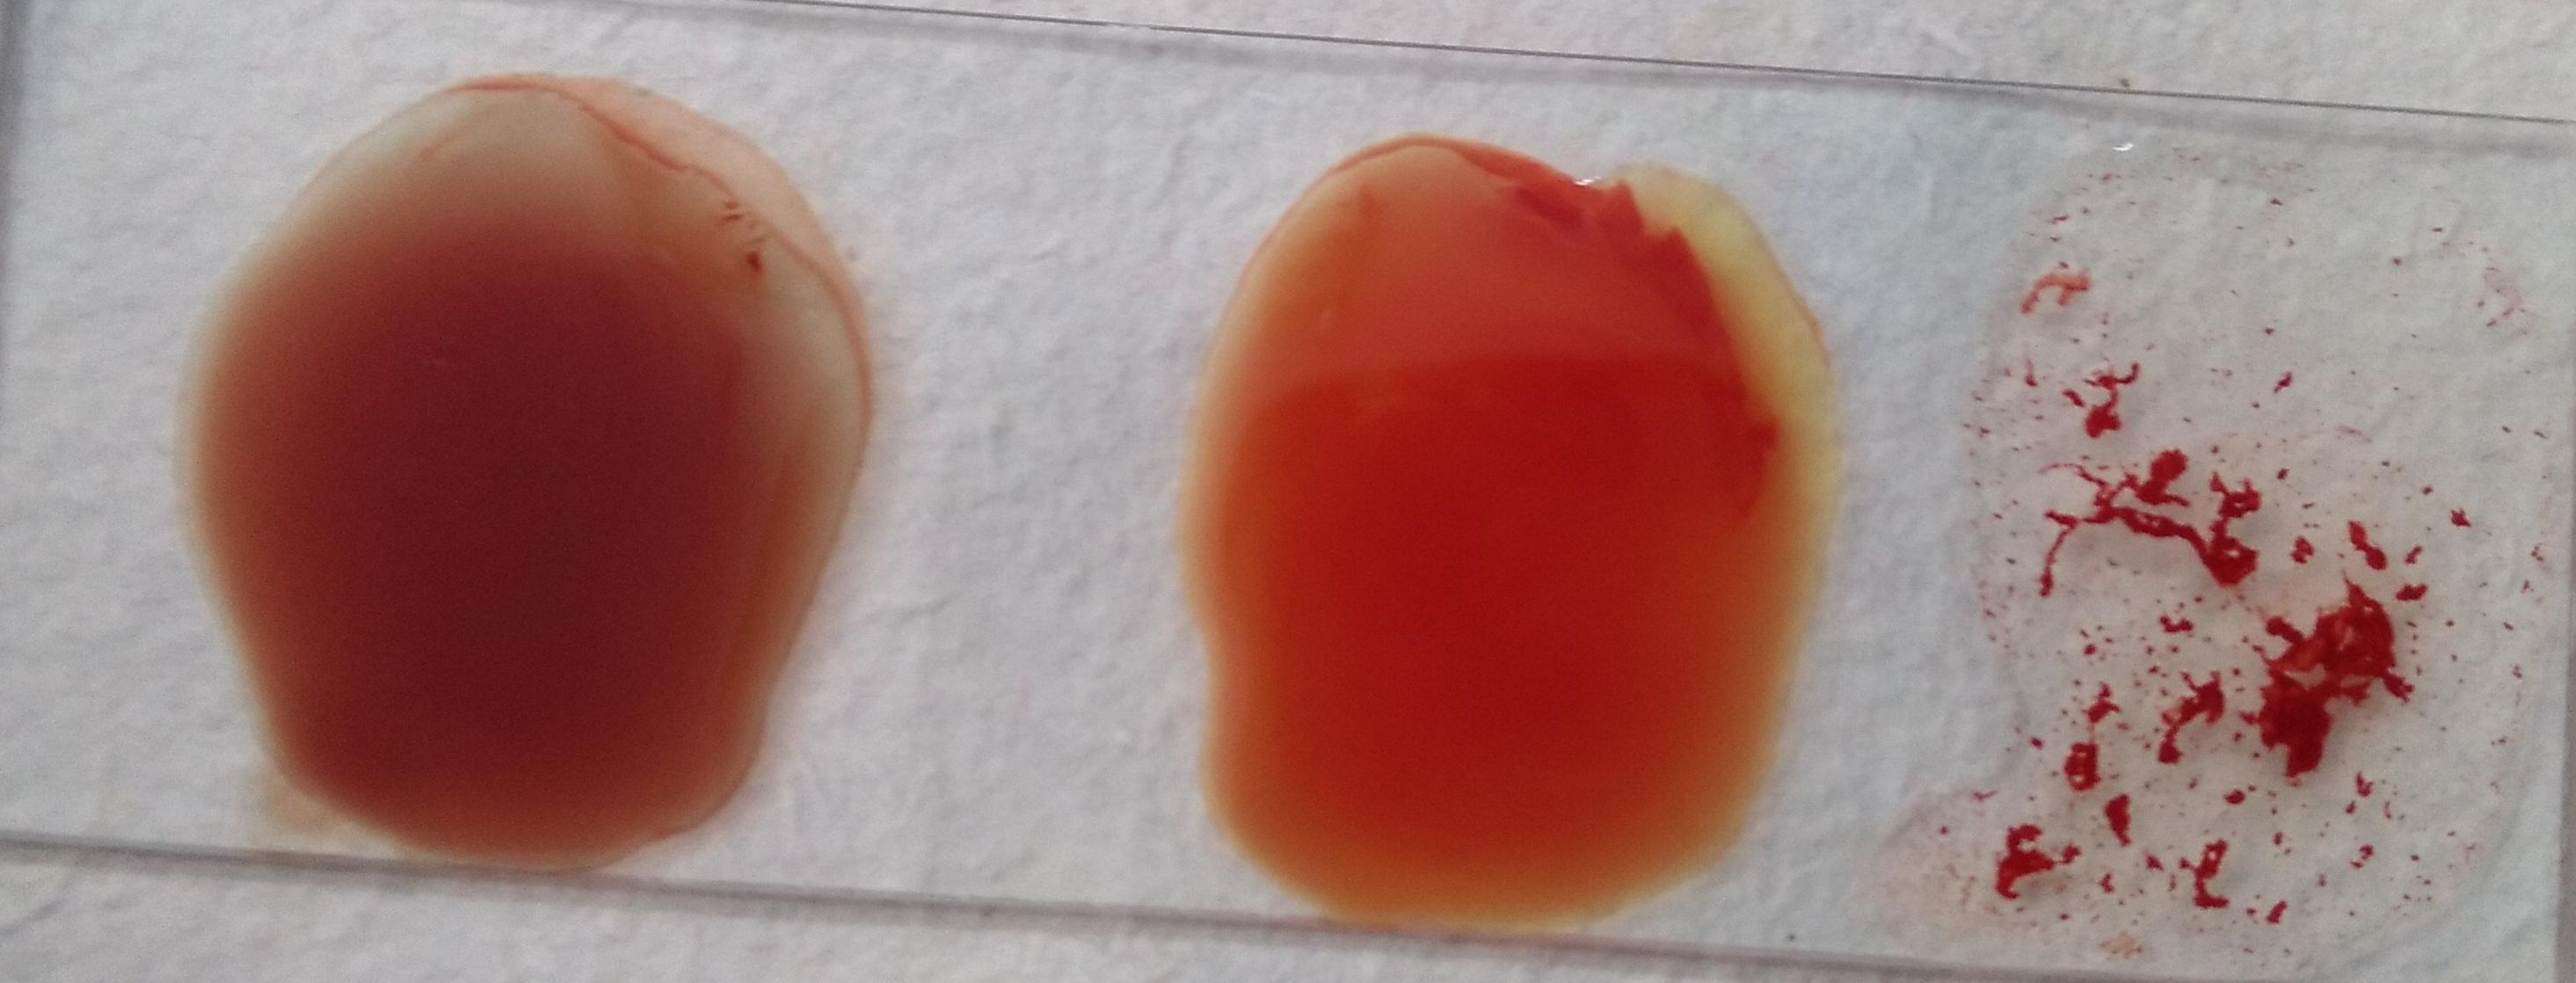D: (1950, 153, 2515, 947)
